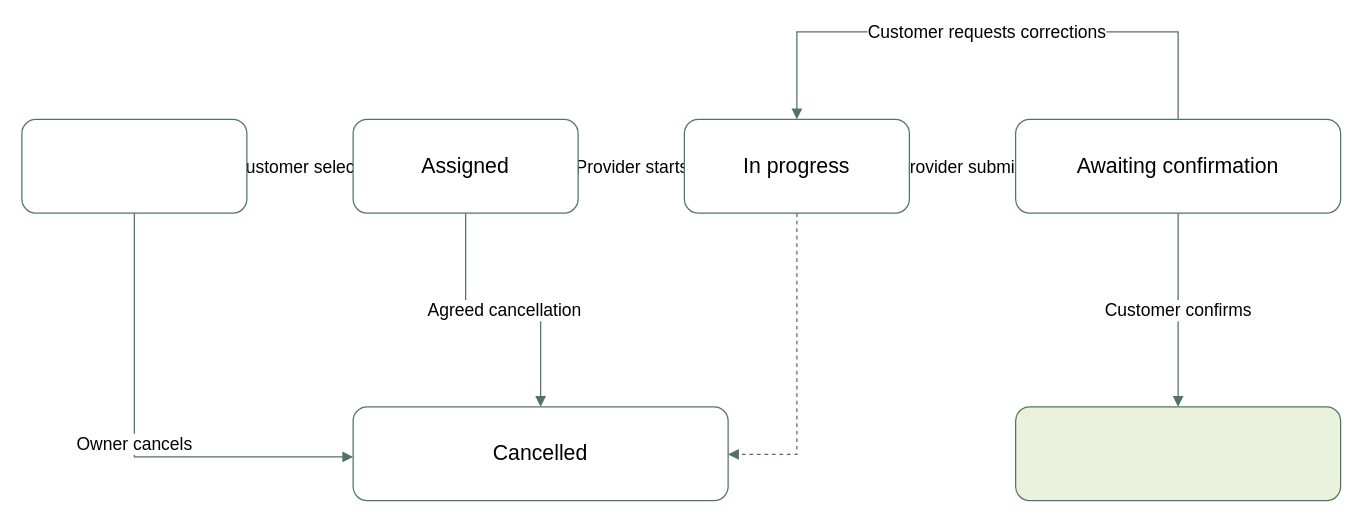
Image size: 1363x523. Some labels were removed from this diagram. Each missing label, with the centre of its shape:
Completed: (x=1177, y=453)
Open request: (x=134, y=165)
